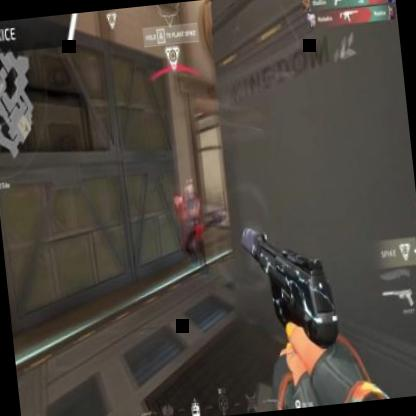enemy: (175, 184, 208, 276)
enemy_head: (185, 182, 195, 200)
